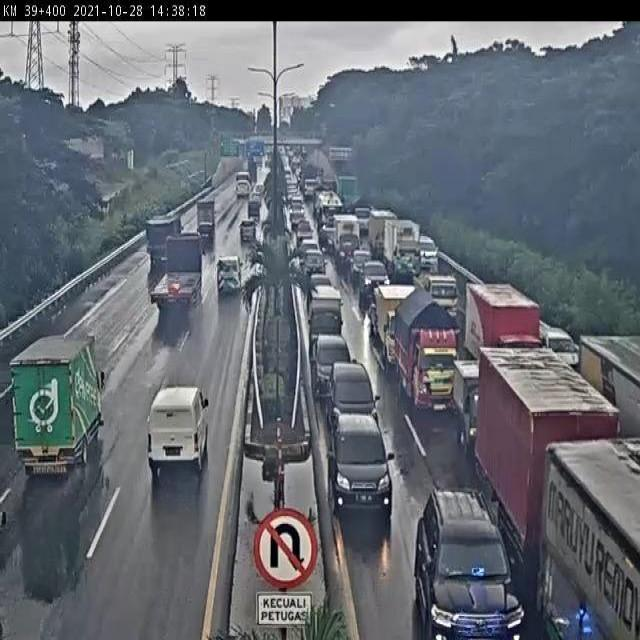big bus: (232, 168, 255, 205)
big truck: (483, 344, 617, 601), (544, 441, 640, 640), (467, 280, 550, 369), (583, 321, 640, 444), (147, 234, 211, 326), (144, 208, 188, 263)
car: (405, 465, 532, 640), (327, 412, 398, 524), (135, 384, 213, 479), (326, 357, 379, 415), (315, 327, 352, 401), (538, 314, 580, 374), (214, 251, 247, 301), (233, 218, 262, 245), (197, 227, 220, 245)
small truck: (7, 333, 99, 480), (398, 292, 458, 416), (452, 360, 507, 463), (560, 277, 601, 393), (372, 280, 418, 375), (411, 260, 466, 325), (302, 288, 347, 356), (194, 200, 226, 224)
